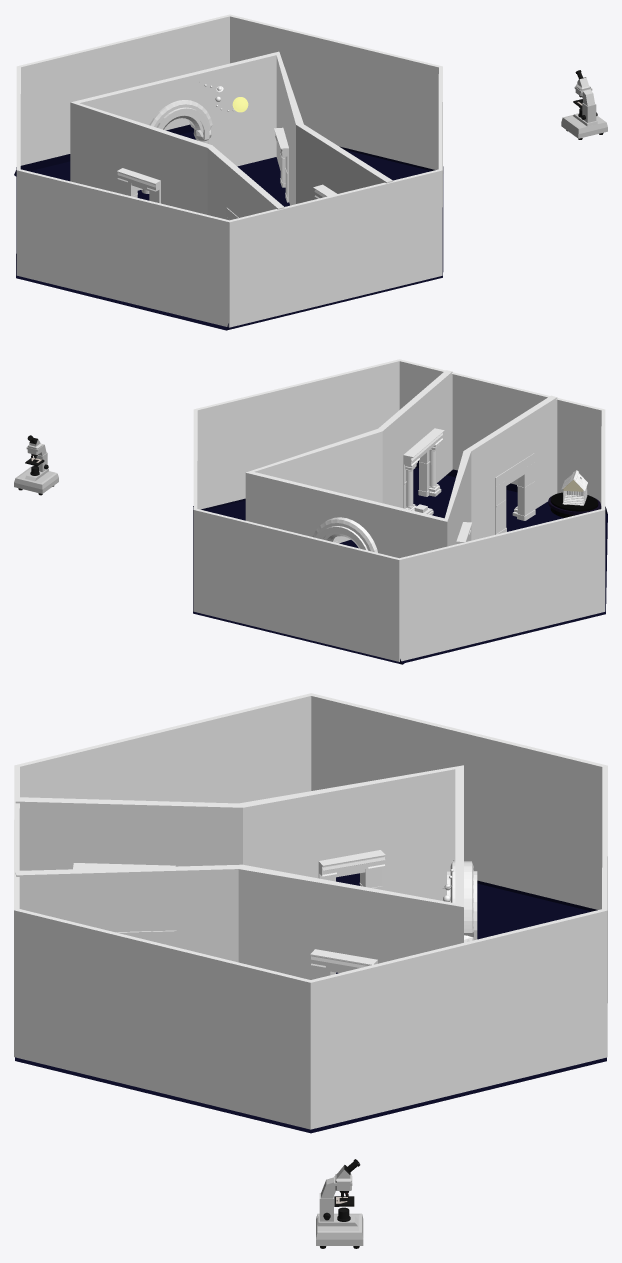
The model's file is nuevabaseblend.gltf.
The picture shows the model from 3 angles, top to bottom: view 1: azimuth 30°, elevation 25°; view 2: azimuth 150°, elevation 25°; view 3: azimuth 270°, elevation 25°; orthographic projection. The views are drawn at different scales.
Visible parts, largest first — view 1: Circle, Circle.001, Plane.001, Cube.007, Cylinder.002, Cylinder.001; view 2: Circle, Circle.001, Plane.001, Cube.011, Cylinder.002, Cube, Cylinder.001; view 3: Circle, Circle.001, Plane.001, Cube.007, Cylinder.002, Cylinder.001, Cube.011.
Boxes of the visible parts, x1,y1,x2,y2 form: Circle: (16,14,442,327); Circle.001: (70,51,392,219); Plane.001: (14,124,443,330); Cube.007: (117,127,288,203); Cylinder.002: (561,70,607,139); Cylinder.001: (141,100,212,193); Circle: (193,359,605,661); Circle.001: (245,370,557,558); Plane.001: (193,461,607,664); Cube.011: (403,428,535,534); Cylinder.002: (14,435,58,495); Cube: (550,470,598,517); Cylinder.001: (312,517,377,552); Circle: (14,693,607,1129); Circle.001: (15,765,463,979); Plane.001: (15,873,606,1133); Cube.007: (310,850,385,979); Cylinder.002: (316,1159,363,1248); Cylinder.001: (447,861,477,942); Cube.011: (73,863,176,947).
Bounding box in the file's own units: 42.06 × 7.58 × 26.15.
37 materials, 2 textured.
